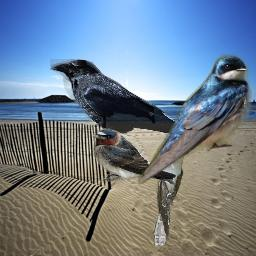Crow: (50, 59, 179, 144)
Cuckoo: (153, 149, 189, 246)
Swallow: (138, 52, 253, 187), (90, 128, 177, 185)
